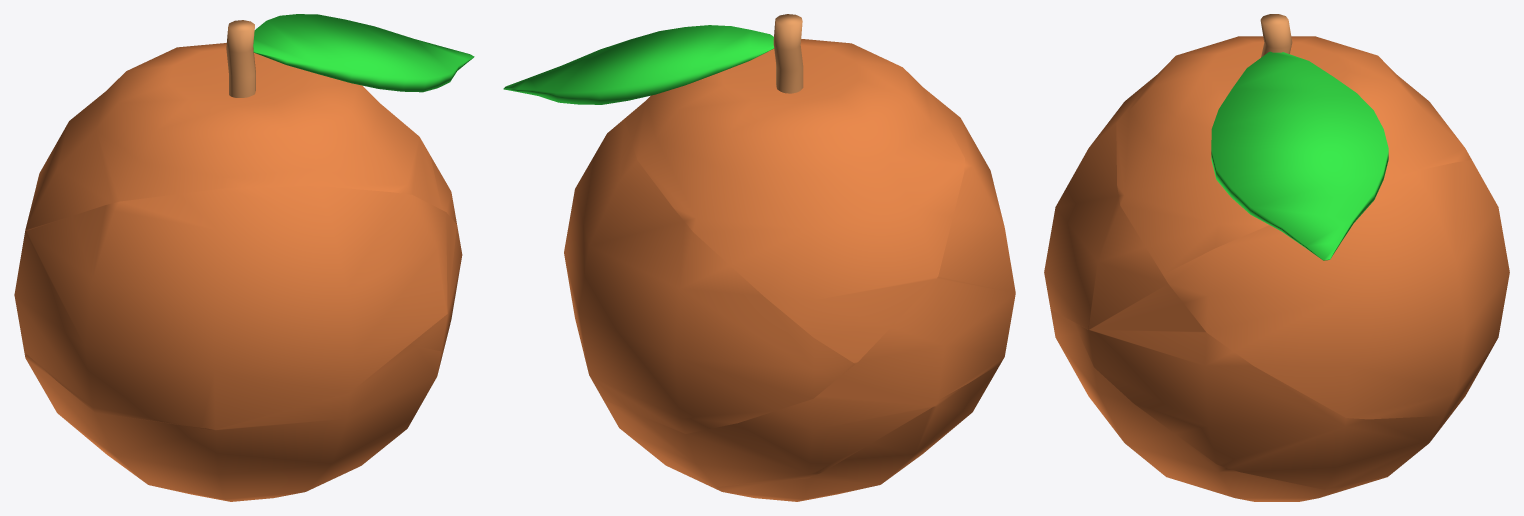
File: Low_Poly_Fruits_Pack_By_Edwin3D 2.fbx
3 views of the same model, side by side, from view 1: azimuth 30°, elevation 25°; view 2: azimuth 150°, elevation 25°; view 3: azimuth 270°, elevation 25° (orthographic).
Visible parts, largest first — view 1: Cherry_Leaf_001.003, Cherry_Leaf_001.001, Cherry_Leaf_001, Cherry_Leaf_001.002, Cherry_Leaf_001.004, Cherry_Leaf_001.005; view 2: Cherry_Leaf_001.001, Cherry_Leaf_001.005, Cherry_Leaf_001.003, Cherry_Leaf_001.004, Cherry_Leaf_001.002, Cherry_Leaf_001; view 3: Cherry_Leaf_001.005, Cherry_Leaf_001.001, Cherry_Leaf_001.004, Cherry_Leaf_001.002, Cherry_Leaf_001.003, Cherry_Leaf_001.
Boxes of the visible parts, x1,y1,x2,y2 form: Cherry_Leaf_001.003: (14, 186, 456, 429); Cherry_Leaf_001.001: (25, 43, 442, 231); Cherry_Leaf_001: (25, 345, 441, 501); Cherry_Leaf_001.002: (226, 14, 474, 97); Cherry_Leaf_001.004: (24, 225, 462, 356); Cherry_Leaf_001.005: (430, 156, 456, 223); Cherry_Leaf_001.001: (624, 39, 964, 363); Cherry_Leaf_001.005: (564, 119, 854, 433); Cherry_Leaf_001.003: (817, 95, 1015, 400); Cherry_Leaf_001.004: (574, 312, 939, 486); Cherry_Leaf_001.002: (503, 14, 803, 104); Cherry_Leaf_001: (665, 363, 1000, 501); Cherry_Leaf_001.005: (1163, 160, 1509, 419); Cherry_Leaf_001.001: (1116, 36, 1471, 274); Cherry_Leaf_001.004: (1074, 322, 1485, 489); Cherry_Leaf_001.002: (1211, 14, 1388, 260); Cherry_Leaf_001.003: (1044, 81, 1205, 331); Cherry_Leaf_001: (1050, 259, 1388, 501).
Size of the model in its own units: 180 by 176 by 160.
